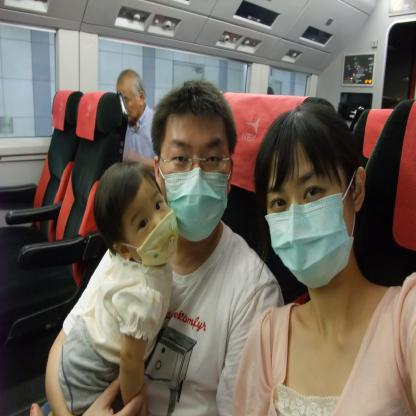Not_Wearing_Mask: (122, 90, 140, 123)
Wearing_Mask: (262, 159, 355, 290), (158, 132, 230, 240), (124, 185, 179, 268)
